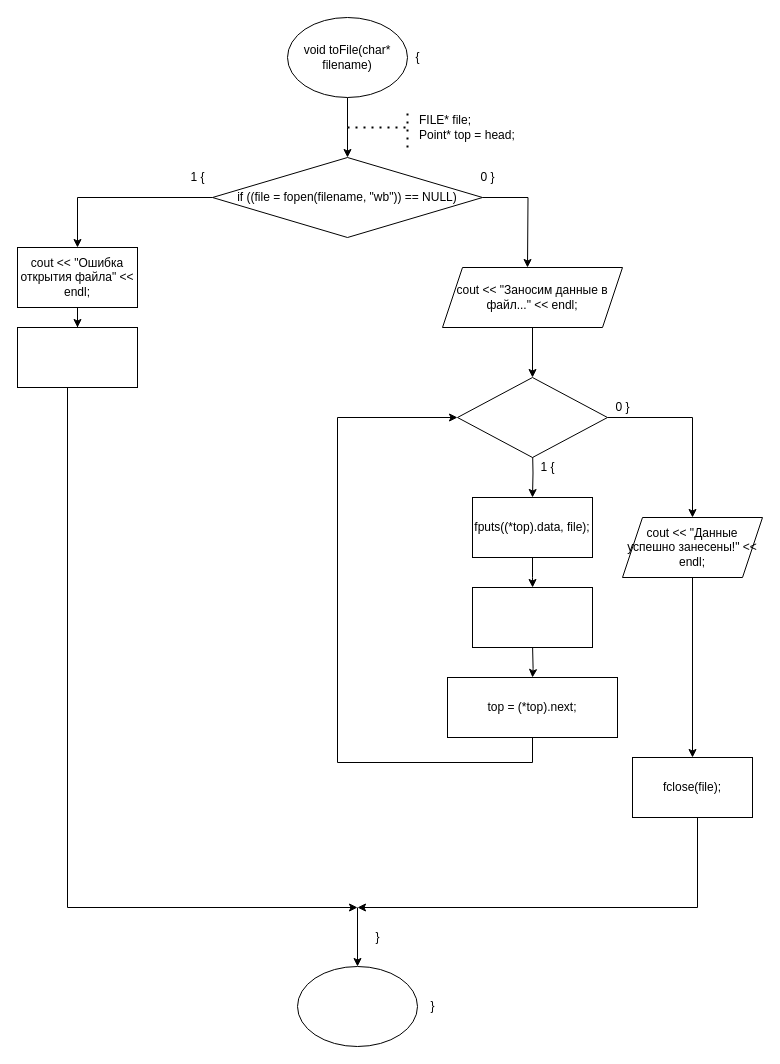
Image size: 780x1064. Some labels were removed from this diagram. Each missing label, with the box of its shape:
exit(1);: (16, 326, 138, 388)
fputs("\n", file);: (472, 586, 592, 648)
return;: (296, 966, 418, 1046)
while (top != nullptr): (456, 376, 608, 458)
